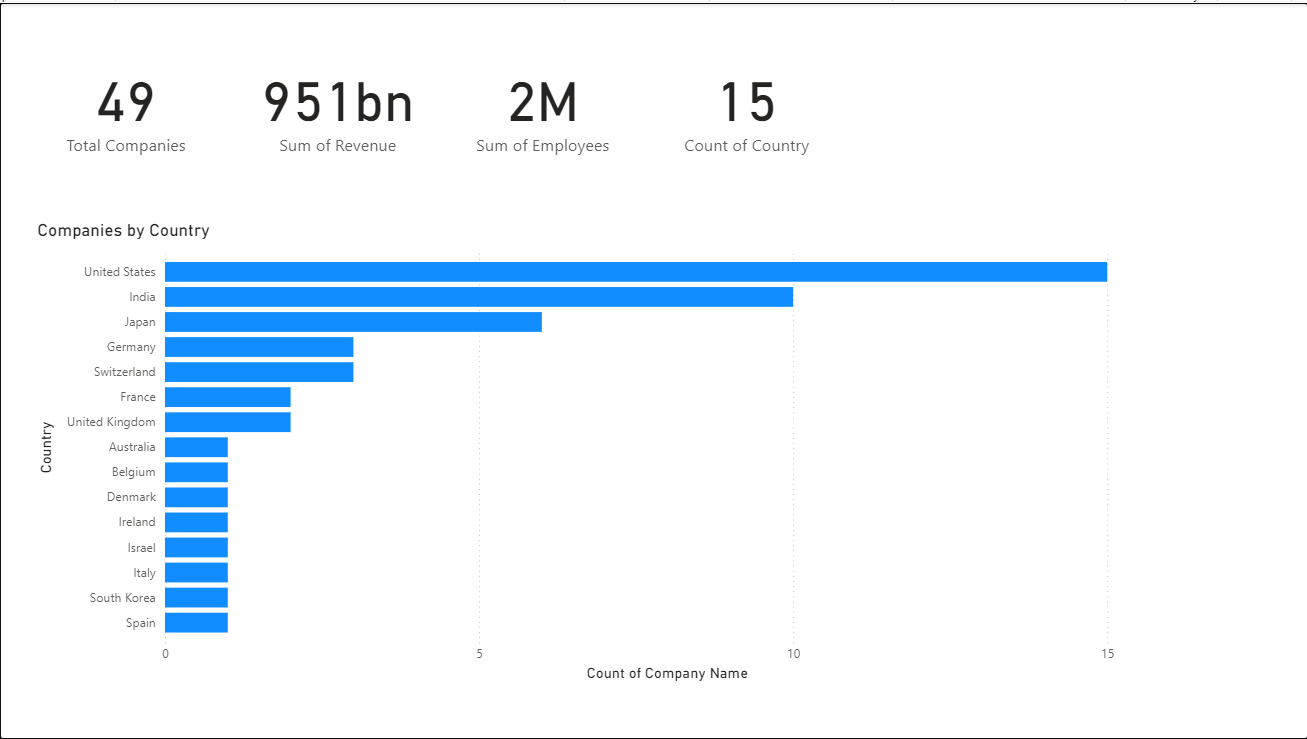

This screenshot's page, from the dashboard's own definition file:
{"tool":"powerbi","page":{"name":"Executive Overview","canvas":[1280,720],"ordinal":0},"visuals":[{"type":"card","fields":{"Values":["Validated_PCMRT_Main_Dataset.Total Companies"]},"box":[0,17.1,210.3,166.3],"z":0},{"type":"card","fields":{"Values":["Sum(Validated_PCMRT_Main_Dataset.Revenue)"]},"box":[228.7,17.1,182.2,166.3],"z":1000},{"type":"card","fields":{"Values":["Sum(Validated_PCMRT_Main_Dataset.Employees)"]},"box":[421.9,17.1,182.2,166.3],"z":2000},{"type":"card","fields":{"Values":["Count(Validated_PCMRT_Main_Dataset.Country)"]},"box":[622.4,17.1,182.2,166.3],"z":3000},{"type":"clusteredBarChart","title":"Companies by Country","fields":{"Category":["Validated_PCMRT_Main_Dataset.Country"],"Y":["CountNonNull(Validated_PCMRT_Main_Dataset.Company Name)"]},"box":[58.7,248.2,1059,392.5],"z":4000}]}

Visuals, with their boxes in screenshot pixels (x1, y1, x2, y2), scaled from the page's 1280x720 canvas onto the 1307x739 screenshot:
card - Validated_PCMRT_Main_Dataset.Total Companies: left=0, top=18, right=215, bottom=188
card - Sum(Validated_PCMRT_Main_Dataset.Revenue): left=234, top=18, right=420, bottom=188
card - Sum(Validated_PCMRT_Main_Dataset.Employees): left=431, top=18, right=617, bottom=188
card - Count(Validated_PCMRT_Main_Dataset.Country): left=636, top=18, right=822, bottom=188
"Companies by Country" clusteredBarChart: left=60, top=255, right=1141, bottom=658
